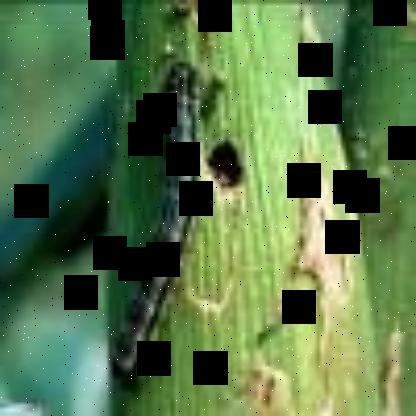agujero: (202, 131, 251, 197)
oruga: (137, 52, 195, 380)
